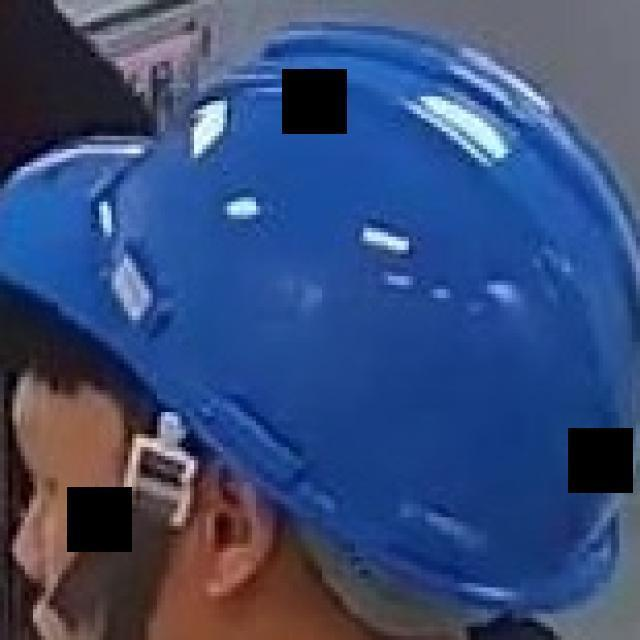helmet: (0, 17, 639, 638)
